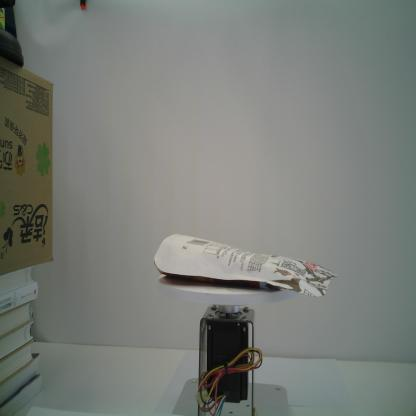Dried Fruit: (154, 233, 340, 298)
